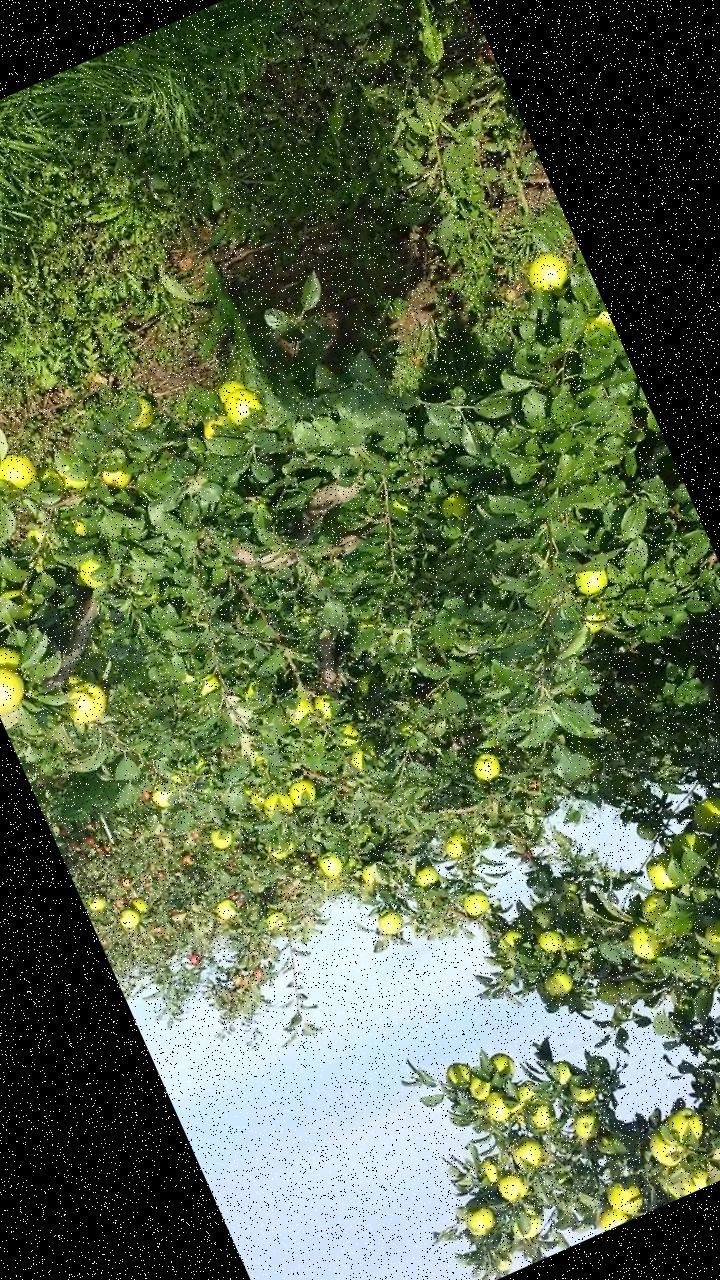Apple: (55, 676, 115, 734), (520, 248, 577, 302), (600, 1170, 650, 1223), (642, 1119, 691, 1173), (0, 446, 44, 502), (622, 919, 670, 970), (664, 824, 716, 870), (502, 1198, 550, 1246), (662, 1103, 710, 1151), (116, 392, 162, 442), (634, 882, 682, 928), (0, 657, 35, 719), (504, 1131, 550, 1178), (534, 960, 580, 1005), (279, 682, 323, 728), (432, 486, 478, 530), (221, 386, 266, 429), (642, 852, 684, 898), (566, 562, 614, 602), (490, 1165, 534, 1208), (0, 584, 41, 630), (685, 791, 719, 846), (74, 554, 114, 598), (478, 1088, 519, 1130), (439, 1055, 481, 1096), (465, 748, 506, 789), (28, 462, 68, 504), (470, 1150, 511, 1190), (306, 685, 347, 725), (463, 1204, 503, 1244), (567, 1106, 607, 1146), (668, 1164, 715, 1198), (460, 1066, 498, 1106), (0, 639, 31, 688), (493, 922, 535, 958), (260, 787, 298, 826), (57, 464, 94, 504), (458, 884, 496, 922), (522, 1100, 562, 1136), (487, 1046, 522, 1086), (284, 775, 321, 812), (564, 1075, 602, 1111), (343, 740, 381, 776), (146, 778, 184, 814), (439, 829, 478, 864), (579, 309, 616, 345), (260, 834, 299, 868), (372, 904, 408, 940), (347, 669, 384, 704), (532, 926, 568, 960), (312, 850, 348, 884), (330, 717, 364, 753), (592, 1200, 630, 1232), (206, 820, 240, 855), (99, 462, 134, 496), (214, 375, 251, 407), (408, 864, 444, 896), (614, 971, 648, 1004), (580, 608, 615, 640), (528, 898, 560, 932), (456, 1194, 492, 1224), (697, 909, 719, 954), (513, 1077, 544, 1108), (592, 980, 624, 1010), (558, 928, 590, 958), (212, 894, 242, 926), (262, 907, 294, 936), (83, 888, 113, 918), (549, 1059, 578, 1089), (356, 861, 384, 892), (116, 904, 146, 932), (198, 416, 228, 444), (196, 672, 224, 700), (558, 888, 585, 916), (58, 670, 89, 694), (65, 518, 91, 546), (490, 1250, 515, 1276), (128, 894, 152, 920), (634, 820, 659, 844), (562, 878, 579, 896)
